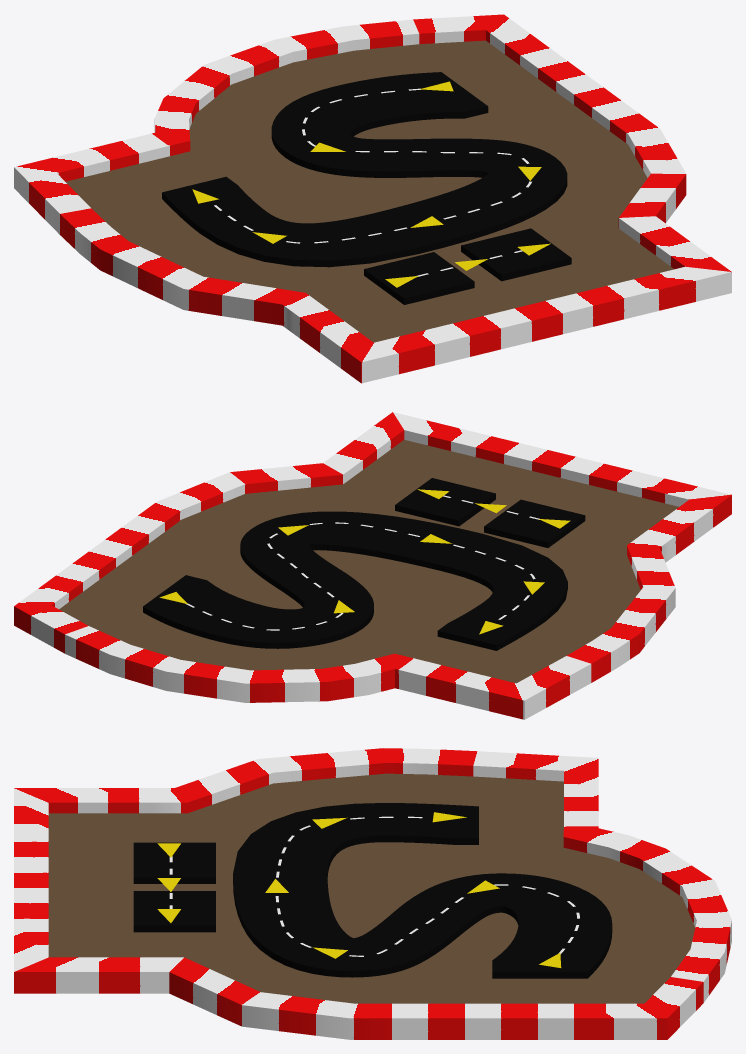
Rendered from yeh.FBX.
3 renders of one model, top to bottom at view 1: azimuth 30°, elevation 25°; view 2: azimuth 150°, elevation 25°; view 3: azimuth 270°, elevation 25°, orthographic. The views are drawn at different scales.
Parts seen in each view (by area): view 1: ya2_floor, ya2_coll, ya2, line0; view 2: ya2_floor, ya2_coll, ya2, line0; view 3: ya2_floor, ya2_coll, ya2, line0.
Part boxes in pixels (<box>): ya2_floor: <box>65,40,673,342</box>; ya2_coll: <box>14,14,731,383</box>; ya2: <box>162,72,571,304</box>; line0: <box>214,88,531,243</box>; ya2_floor: <box>59,440,678,683</box>; ya2_coll: <box>14,412,731,719</box>; ya2: <box>143,478,585,650</box>; line0: <box>185,522,535,630</box>; ya2_floor: <box>48,773,695,1003</box>; ya2_coll: <box>14,748,731,1039</box>; ya2: <box>133,803,612,978</box>; line0: <box>275,816,579,956</box>.
Bounding box in the file's own units: 883 × 32.76 × 991.
